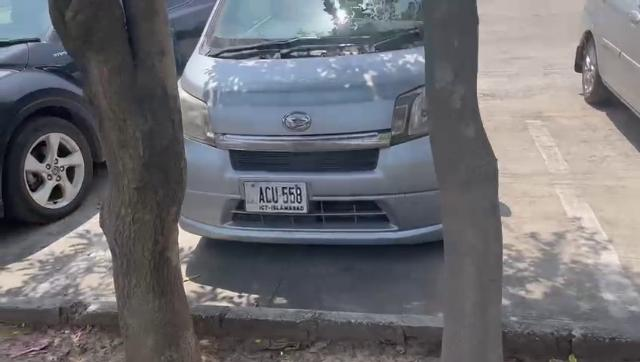plate: (244, 182, 308, 214)
